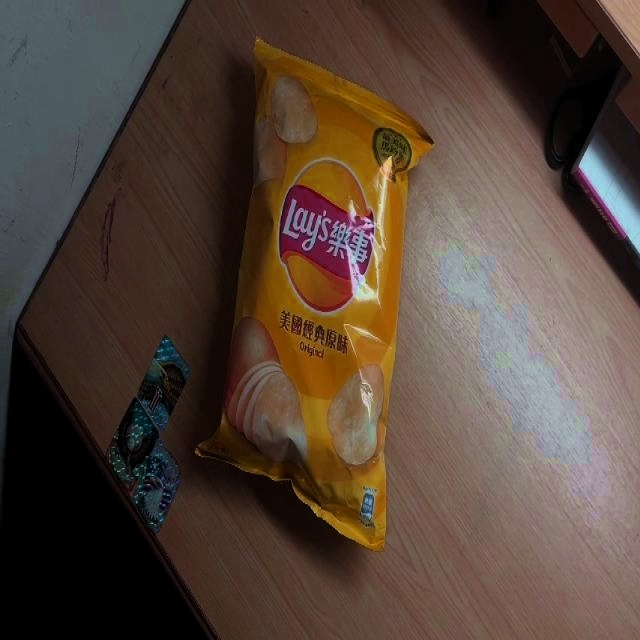Lay-s-original: (196, 31, 436, 556)
